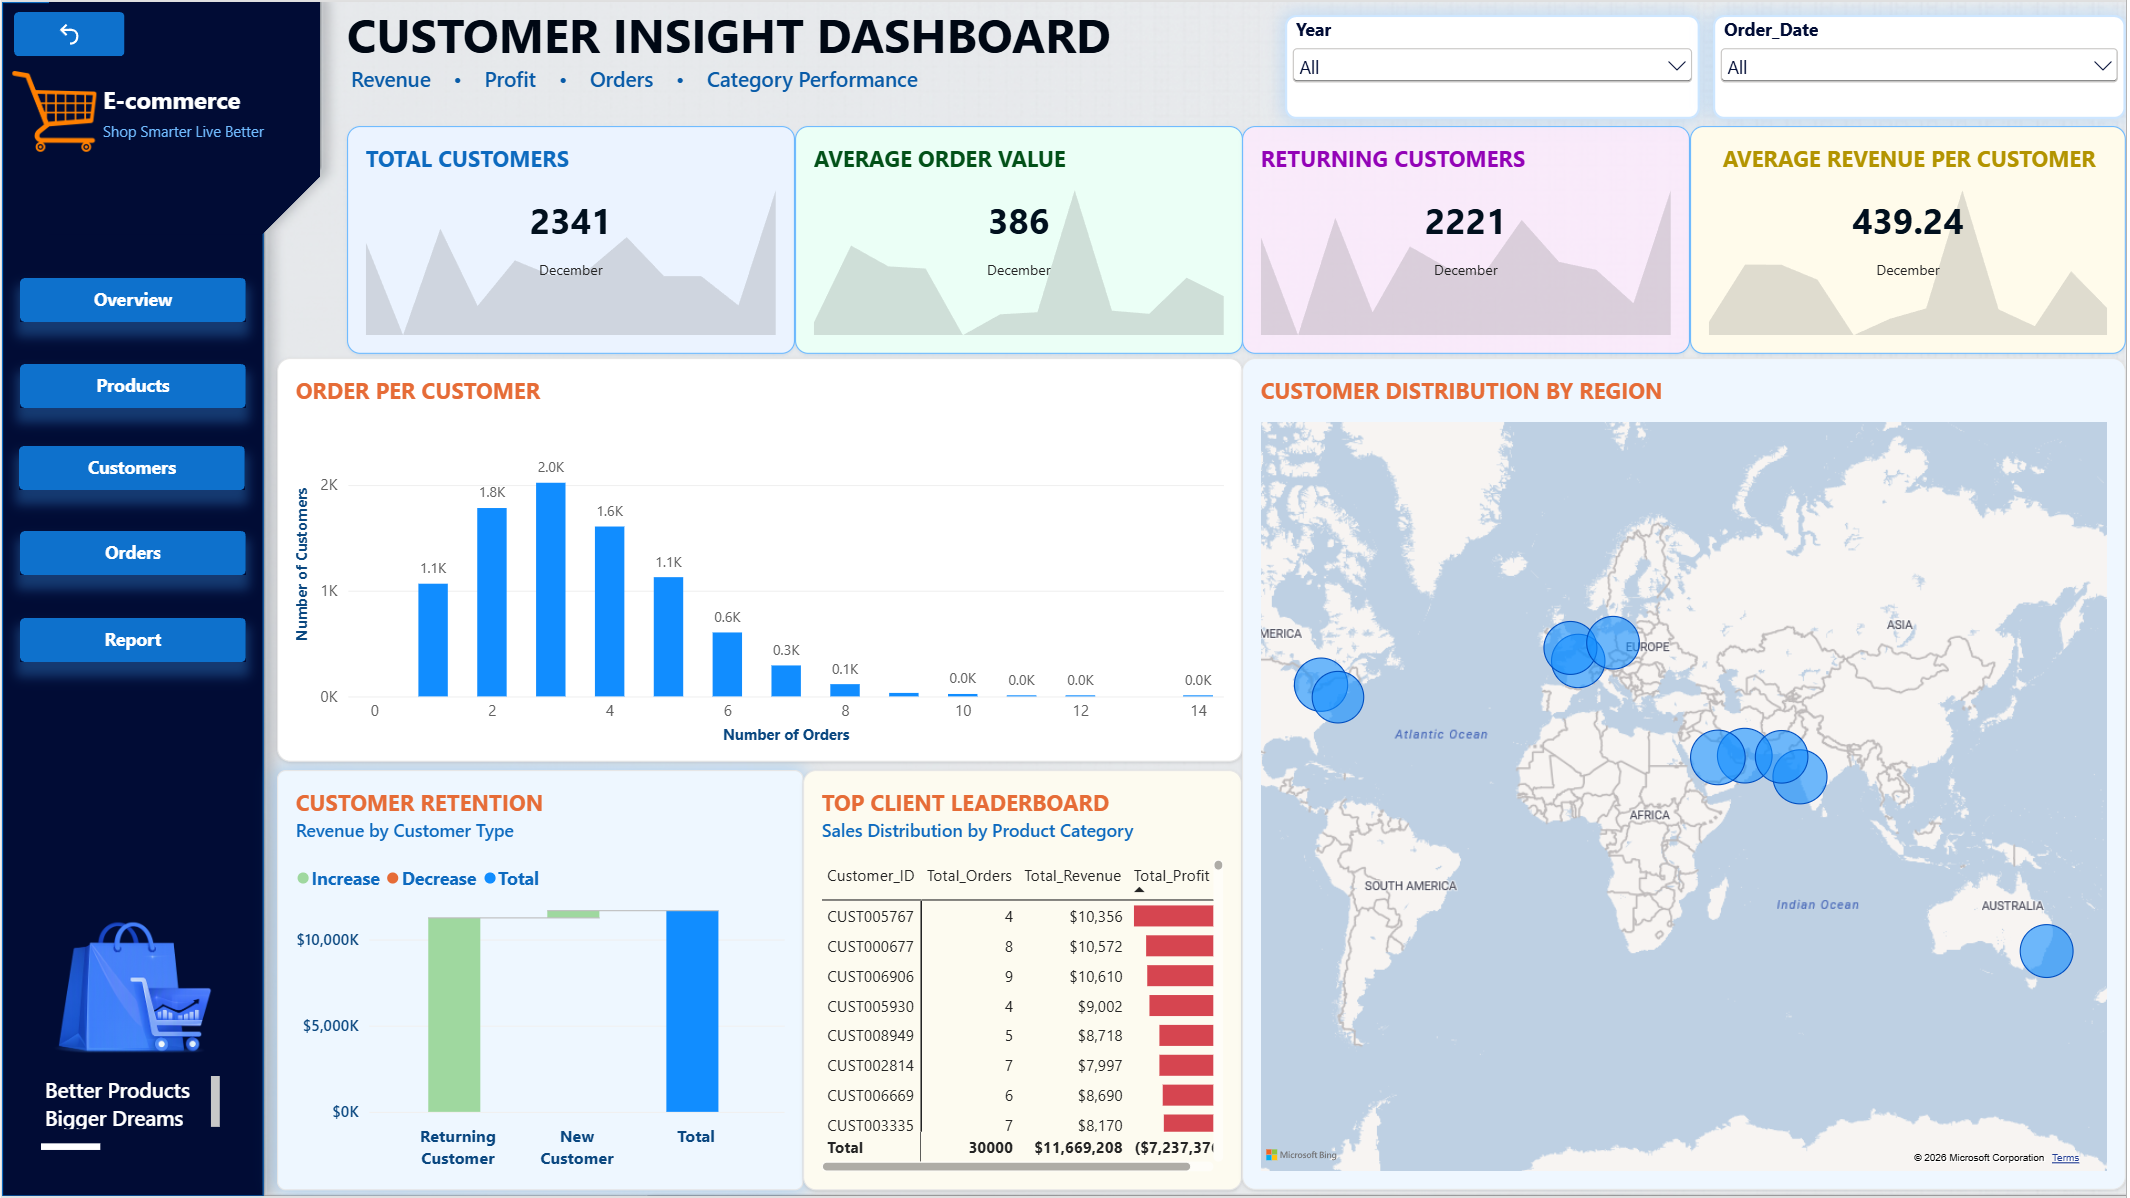

This screenshot's page, from the dashboard's own definition file:
{"tool":"powerbi","page":{"name":"Customer Insights","canvas":[1920,1080],"ordinal":2},"visuals":[{"type":"textbox","box":[312,0,749,98],"z":0},{"type":"textbox","box":[315.1,56.9,644.9,48.1],"z":1000},{"type":"shape","box":[0,0,236.6,1079.8],"z":2000,"group":"g1"},{"type":"slicer","fields":{"Values":["ecommerce_orders_dataset (1).Year"]},"box":[1159.9,11.3,375.3,93.6],"z":2000},{"type":"shape","box":[42.2,0,245.4,210.1],"z":3000,"group":"g1"},{"type":"slicer","fields":{"Values":["ecommerce_orders_dataset (1).Order_Date.Variation.Date Hierarchy.Month"]},"box":[1546.6,11.3,373.4,93.6],"z":3000},{"type":"group","id":"g1","title":"Group 1","box":[0,0,287.6,1080],"z":4000},{"type":"kpi","title":"TOTAL CUSTOMERS","fields":{"Indicator":["ecommerce_orders_dataset (1).Total Customers"],"TrendLine":["Calendar.Calendar Month"]},"box":[312,112.5,404.6,206.1],"z":5000},{"type":"kpi","title":"AVERAGE ORDER VALUE","fields":{"Indicator":["ecommerce_orders_dataset (1).Average_Order_Value"],"TrendLine":["Calendar.Calendar Month"]},"box":[716.6,112.5,404.6,206.1],"z":6000},{"type":"kpi","title":"RETURNING CUSTOMERS","fields":{"Indicator":["ecommerce_orders_dataset (1).Returning Customers"],"TrendLine":["Calendar.Calendar Month"]},"box":[1121.2,112.5,404.6,206.1],"z":7000},{"type":"kpi","title":"AVERAGE REVENUE PER CUSTOMER","fields":{"Indicator":["ecommerce_orders_dataset (1).ARPC"],"TrendLine":["Calendar.Calendar Month"]},"box":[1525.8,112.5,394.2,206.1],"z":8000},{"type":"image","box":[26.2,827.8,184.5,128.4],"z":9000},{"type":"textbox","box":[38.6,971.2,158,48.1],"z":10000},{"type":"shape","box":[34.9,989.9,53.6,89.8],"z":11000},{"type":"waterfallChart","title":"CUSTOMER RETENTION","fields":{"Category":["ecommerce_orders_dataset (1).CUstomer Type"],"Y":["ecommerce_orders_dataset (1).Total_Revenue"]},"box":[248.6,693.9,475.5,380],"z":12000},{"type":"pivotTable","title":"TOP CLIENT LEADERBOARD","fields":{"Rows":["ecommerce_orders_dataset (1).Customer_ID"],"Values":["ecommerce_orders_dataset (1).Total_Orders","ecommerce_orders_dataset (1).Total_Revenue","ecommerce_orders_dataset (1).Total_Profit"]},"box":[724.1,693.9,397,380],"z":13000},{"type":"columnChart","title":"ORDER PER CUSTOMER","fields":{"Category":["ecommerce_orders_dataset (1).Customer_Order_Count"],"Y":["Count(ecommerce_orders_dataset (1).Customer_ID)"]},"box":[248.6,321.4,872.6,364.9],"z":14000},{"type":"map","title":"CUSTOMER DISTRIBUTION BY REGION","fields":{"Category":["ecommerce_orders_dataset (1).City","ecommerce_orders_dataset (1).Order_Status","ecommerce_orders_dataset (1).Country"],"Size":["ecommerce_orders_dataset (1).Total_Revenue"]},"box":[1121.2,321.4,798.8,752.5],"z":15000},{"type":"image","box":[6.3,62.4,82.5,72.6],"z":16000},{"type":"textbox","box":[91.3,74.1,145.5,31.6],"z":17000},{"type":"textbox","box":[91.2,106.2,158.2,47.9],"z":19000},{"type":"actionButton","box":[16.3,249.5,204.3,39.8],"z":20000},{"type":"actionButton","box":[16.3,327.2,204.3,39.8],"z":21000},{"type":"actionButton","box":[15.4,401.4,204.3,39.8],"z":22000},{"type":"actionButton","box":[16.3,478.2,204.3,39.8],"z":23000},{"type":"actionButton","box":[16.3,556.8,204.3,39.8],"z":24000},{"type":"actionButton","box":[10.8,9,100,40],"z":24001}]}

Visuals, with their boxes in screenshot pixels (x1, y1, x2, y2), scaled from the page's 1920x1080 canvas onto the 2130x1198 screenshot:
textbox: {"left": 346, "top": 0, "right": 1177, "bottom": 109}
textbox: {"left": 350, "top": 63, "right": 1065, "bottom": 116}
shape: {"left": 0, "top": 0, "right": 262, "bottom": 1197}
slicer - ecommerce_orders_dataset (1).Year: {"left": 1287, "top": 13, "right": 1703, "bottom": 116}
shape: {"left": 47, "top": 0, "right": 319, "bottom": 233}
slicer - ecommerce_orders_dataset (1).Order_Date.Variation.Date Hierarchy.Month: {"left": 1716, "top": 13, "right": 2129, "bottom": 116}
"Group 1" group: {"left": 0, "top": 0, "right": 319, "bottom": 1197}
"TOTAL CUSTOMERS" kpi: {"left": 346, "top": 125, "right": 795, "bottom": 353}
"AVERAGE ORDER VALUE" kpi: {"left": 795, "top": 125, "right": 1244, "bottom": 353}
"RETURNING CUSTOMERS" kpi: {"left": 1244, "top": 125, "right": 1693, "bottom": 353}
"AVERAGE REVENUE PER CUSTOMER" kpi: {"left": 1693, "top": 125, "right": 2129, "bottom": 353}
image: {"left": 29, "top": 918, "right": 234, "bottom": 1061}
textbox: {"left": 43, "top": 1077, "right": 218, "bottom": 1131}
shape: {"left": 39, "top": 1098, "right": 98, "bottom": 1197}
"CUSTOMER RETENTION" waterfallChart: {"left": 276, "top": 770, "right": 803, "bottom": 1191}
"TOP CLIENT LEADERBOARD" pivotTable: {"left": 803, "top": 770, "right": 1244, "bottom": 1191}
"ORDER PER CUSTOMER" columnChart: {"left": 276, "top": 357, "right": 1244, "bottom": 761}
"CUSTOMER DISTRIBUTION BY REGION" map: {"left": 1244, "top": 357, "right": 2129, "bottom": 1191}
image: {"left": 7, "top": 69, "right": 99, "bottom": 150}
textbox: {"left": 101, "top": 82, "right": 263, "bottom": 117}
textbox: {"left": 101, "top": 118, "right": 277, "bottom": 171}
actionButton: {"left": 18, "top": 277, "right": 245, "bottom": 321}
actionButton: {"left": 18, "top": 363, "right": 245, "bottom": 407}
actionButton: {"left": 17, "top": 445, "right": 244, "bottom": 489}
actionButton: {"left": 18, "top": 530, "right": 245, "bottom": 575}
actionButton: {"left": 18, "top": 618, "right": 245, "bottom": 662}
actionButton: {"left": 12, "top": 10, "right": 123, "bottom": 54}
